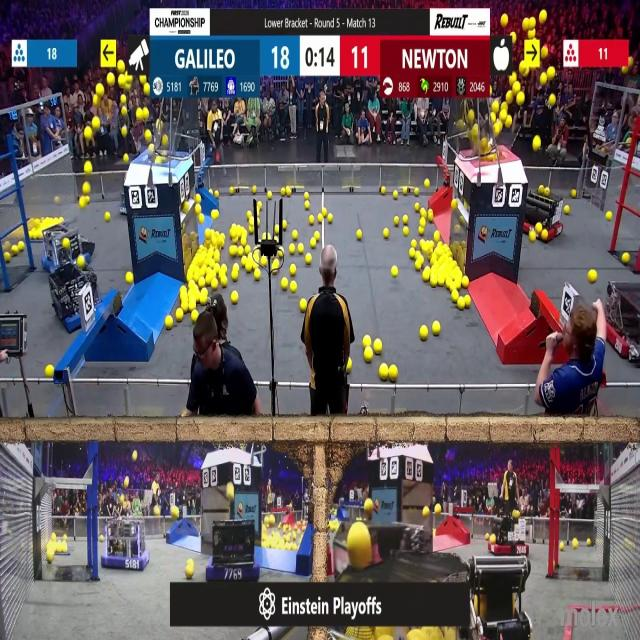ball_airborne: (226, 484, 234, 501), (532, 137, 540, 151), (86, 128, 94, 142), (546, 67, 554, 81), (517, 93, 525, 106), (107, 73, 115, 86), (116, 61, 124, 74), (470, 125, 478, 138), (532, 56, 540, 69), (520, 62, 528, 74), (93, 117, 101, 129), (523, 19, 530, 32), (84, 160, 91, 173), (501, 15, 508, 28), (77, 255, 84, 268), (492, 101, 500, 112), (117, 75, 125, 86), (539, 47, 547, 58), (524, 39, 532, 50), (98, 86, 105, 98), (494, 124, 501, 136), (550, 95, 557, 107), (539, 10, 546, 22), (467, 110, 474, 122), (82, 182, 89, 194), (506, 92, 512, 105), (142, 108, 149, 119), (505, 114, 511, 126), (144, 85, 150, 97), (540, 73, 546, 85), (530, 16, 536, 28), (133, 449, 139, 461), (79, 198, 85, 210), (499, 110, 506, 120), (93, 96, 100, 106), (153, 505, 160, 515), (458, 119, 465, 129), (137, 108, 143, 119), (145, 131, 151, 142), (515, 81, 521, 92), (486, 153, 495, 160), (492, 112, 498, 122), (120, 128, 126, 138), (512, 72, 518, 82), (120, 106, 126, 116), (140, 74, 146, 84), (148, 143, 154, 152), (528, 30, 534, 39), (163, 136, 169, 145), (123, 152, 128, 162), (123, 478, 128, 488), (155, 157, 161, 165), (120, 96, 125, 105), (513, 33, 517, 43), (119, 495, 123, 503)
ball_ground: (373, 340, 382, 355), (389, 364, 397, 379), (380, 363, 388, 378), (363, 348, 372, 361), (420, 326, 428, 340), (186, 563, 193, 578), (166, 316, 174, 329), (590, 271, 598, 284), (432, 321, 439, 335), (172, 508, 180, 520), (299, 300, 306, 313), (45, 364, 53, 375), (362, 337, 370, 348), (219, 276, 227, 287), (429, 276, 437, 287), (623, 252, 630, 264), (127, 273, 134, 285), (176, 310, 183, 322), (46, 551, 53, 563), (446, 280, 454, 290), (426, 241, 434, 251), (232, 291, 239, 302), (282, 279, 289, 290), (253, 270, 260, 281), (540, 232, 547, 243), (422, 271, 429, 282), (434, 503, 441, 514), (213, 250, 220, 261), (439, 276, 446, 287), (290, 281, 296, 293), (462, 277, 468, 289), (201, 292, 207, 304), (190, 312, 197, 322), (410, 248, 417, 258), (199, 278, 206, 288), (273, 261, 280, 271), (231, 246, 238, 256), (259, 255, 266, 265), (188, 301, 195, 311), (245, 264, 252, 274), (290, 266, 296, 277), (306, 253, 312, 264), (391, 267, 397, 278), (453, 290, 459, 301), (212, 209, 218, 220), (423, 508, 429, 519), (182, 301, 188, 312), (11, 245, 18, 254), (420, 240, 427, 249), (240, 238, 247, 247), (212, 280, 218, 290), (530, 233, 536, 243), (292, 231, 298, 241), (402, 225, 408, 235), (297, 244, 303, 254), (233, 272, 239, 282), (4, 252, 10, 262), (464, 295, 469, 307), (458, 301, 464, 311), (416, 261, 422, 271), (186, 272, 192, 282), (194, 204, 200, 214), (219, 238, 225, 248), (317, 215, 324, 223), (213, 265, 220, 273), (180, 285, 187, 293), (220, 266, 227, 274), (187, 282, 194, 290), (205, 230, 212, 238), (289, 245, 295, 254), (309, 215, 315, 224), (310, 239, 316, 248), (572, 539, 578, 548), (415, 203, 421, 212), (424, 179, 430, 188), (238, 247, 244, 256), (199, 214, 205, 223), (194, 193, 200, 202), (241, 255, 247, 264), (452, 201, 458, 210), (286, 187, 292, 196), (384, 230, 389, 240), (357, 229, 362, 239), (434, 233, 439, 243), (428, 211, 433, 221), (18, 242, 23, 252), (233, 266, 240, 273), (245, 246, 252, 253), (564, 206, 570, 214), (606, 212, 612, 220), (412, 240, 418, 248), (420, 217, 426, 225), (381, 186, 387, 194), (394, 216, 399, 225), (402, 215, 407, 224), (315, 233, 320, 242), (327, 214, 332, 223), (275, 224, 280, 233), (348, 358, 352, 369), (419, 227, 425, 234), (276, 250, 282, 257), (214, 190, 220, 197), (628, 58, 634, 65), (227, 187, 233, 194), (105, 213, 110, 221), (571, 189, 576, 197), (282, 221, 287, 229), (252, 185, 257, 193), (421, 208, 426, 216), (305, 191, 310, 199), (256, 202, 261, 210), (415, 187, 420, 195), (249, 217, 254, 225), (247, 211, 252, 218), (249, 225, 254, 232), (402, 187, 407, 194), (281, 188, 286, 195), (393, 190, 397, 198), (269, 190, 273, 198), (306, 202, 310, 210), (588, 538, 592, 546), (560, 542, 564, 550), (322, 208, 326, 216), (100, 535, 104, 542), (256, 218, 259, 226), (432, 529, 435, 535)
goal: (468, 124, 521, 160)
robot_blue: (206, 521, 260, 585), (50, 267, 103, 332), (41, 220, 83, 277), (103, 518, 148, 570)
robot_red: (605, 279, 640, 363), (489, 515, 532, 573), (522, 185, 563, 242)
